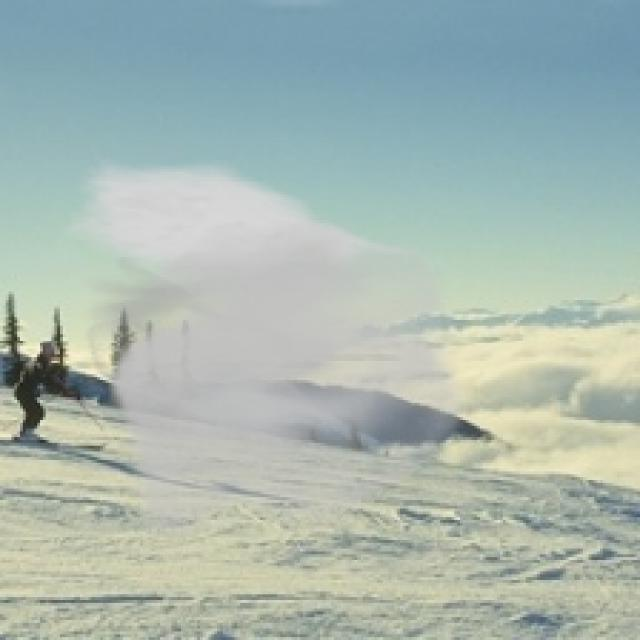smoke: (60, 157, 480, 537)
